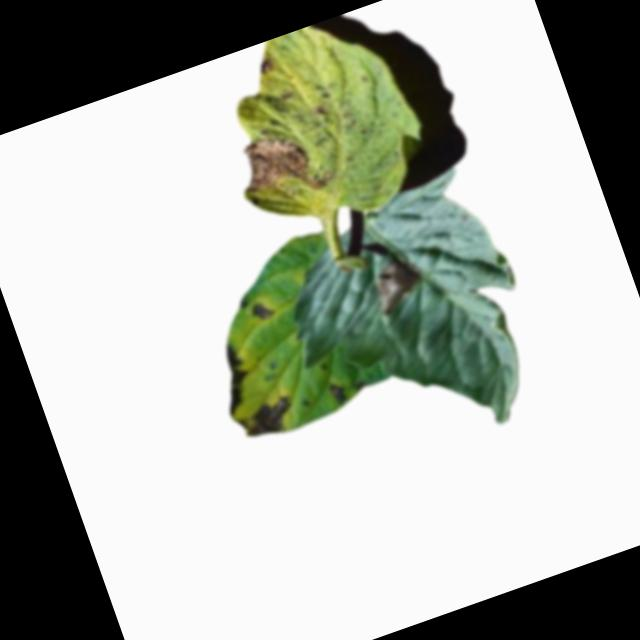Early_blight: (227, 119, 336, 215), (363, 252, 429, 317), (206, 341, 260, 418), (230, 392, 301, 448), (248, 299, 281, 327), (253, 52, 279, 82), (326, 379, 351, 408)
